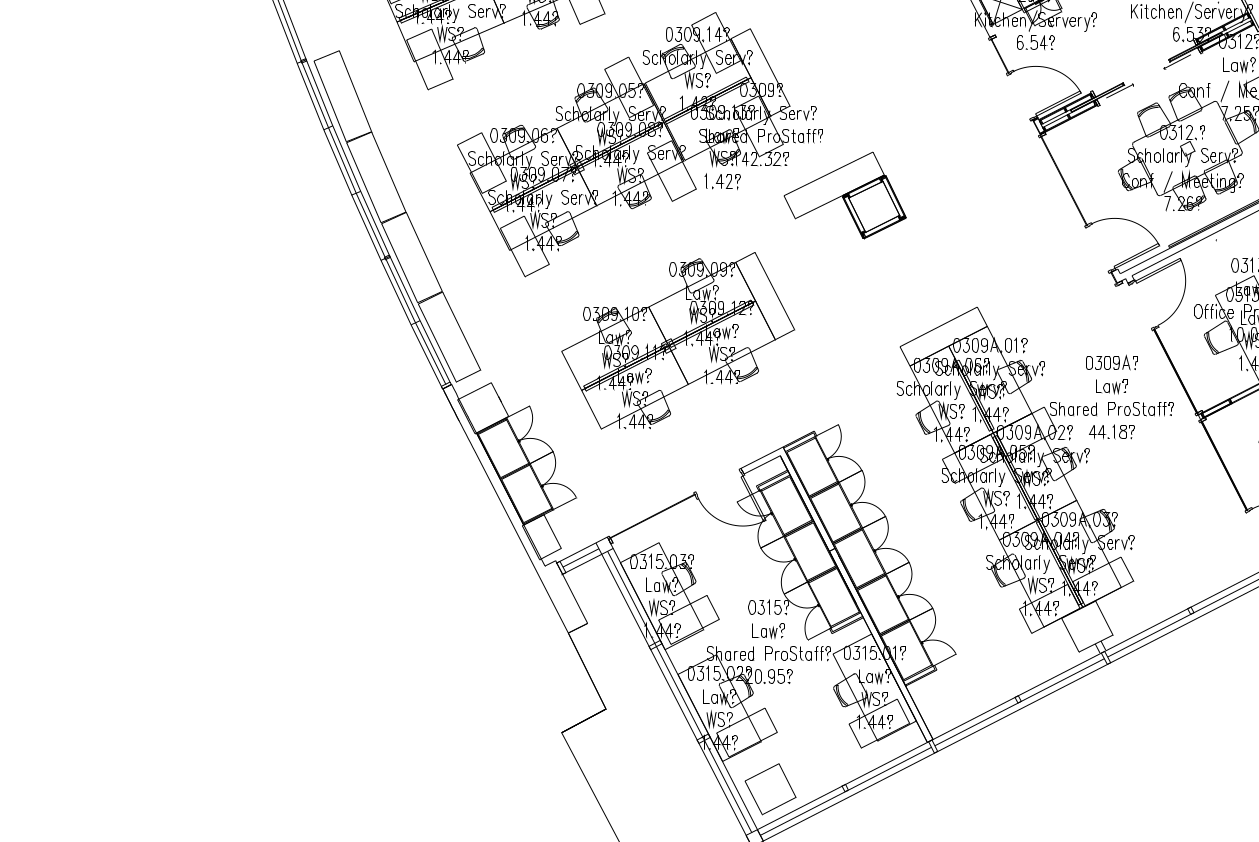door: (1123, 255, 1204, 329), (1003, 49, 1084, 123), (686, 467, 767, 541), (1084, 209, 1164, 268)
